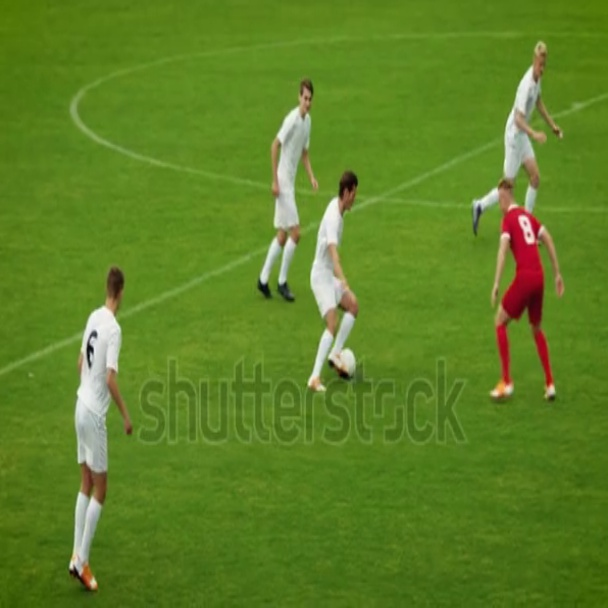ball: (341, 345, 356, 379)
